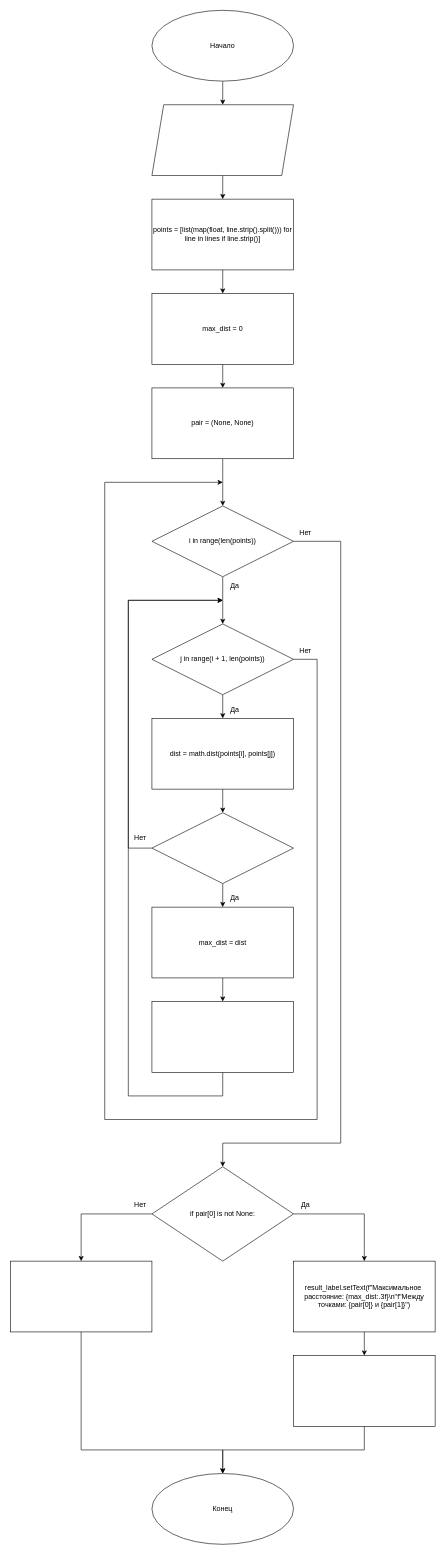
This 445x1555 diagram has some shape labels left out. The shapes that lost their labels are listed below. From the top down, each one's centre as x and y in pixels, then its label:
point 222,140: lines = self.input_area.toPlainText(). strip().split("\n")
point 222,848: dist > max_dist
point 222,1036: pair = (points[i], points[j])
point 81,1296: result_label.setText("Недостаточно данных для расчета.")
point 364,1390: plot_points(points, pair)
